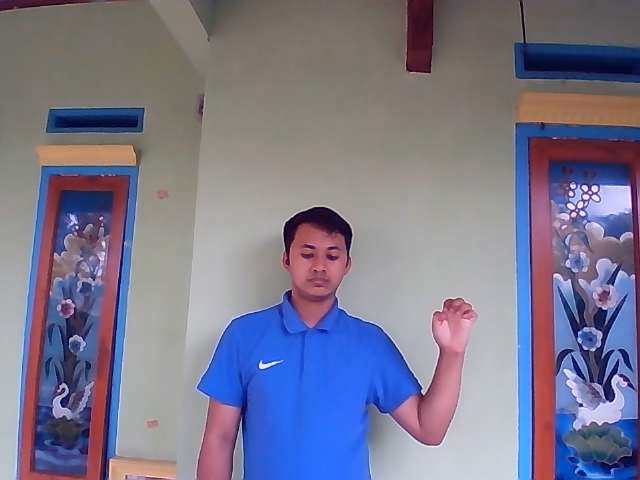E: (430, 297, 478, 351)
